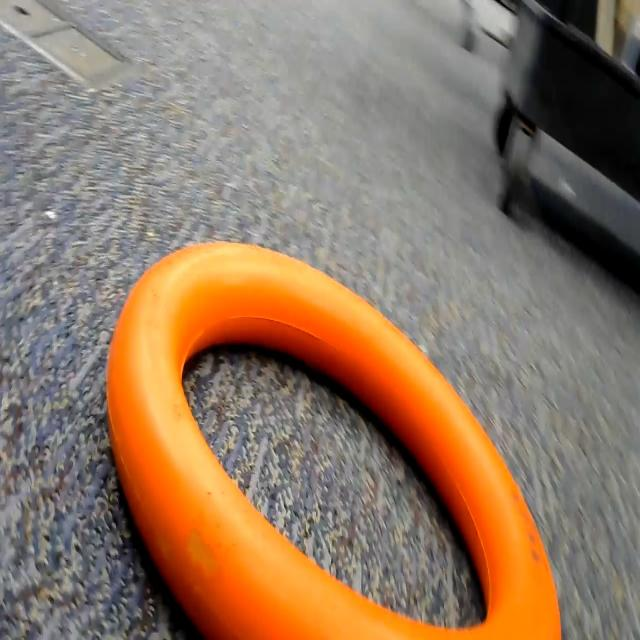note: (100, 239, 574, 640)
